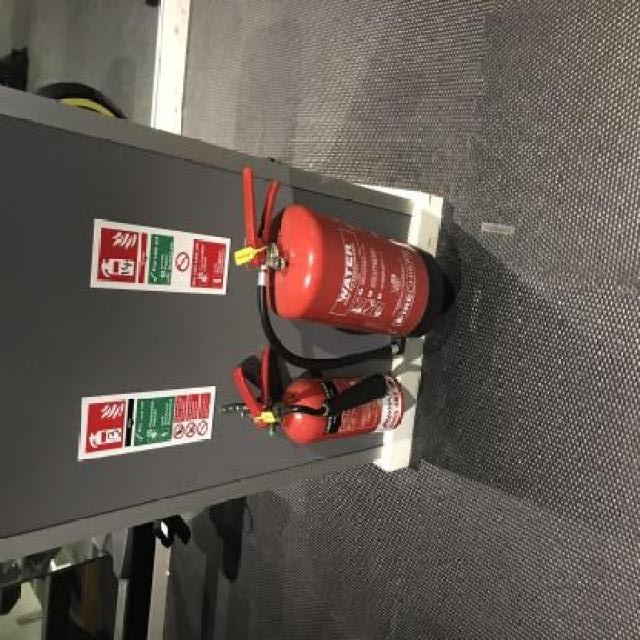fire extinguisher: (234, 167, 446, 371), (232, 346, 403, 442)
